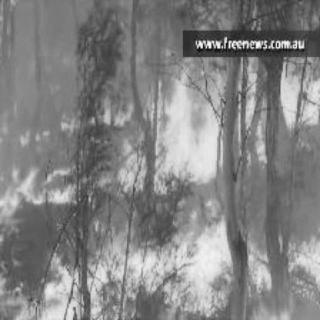Fire: (12, 60, 316, 314)
